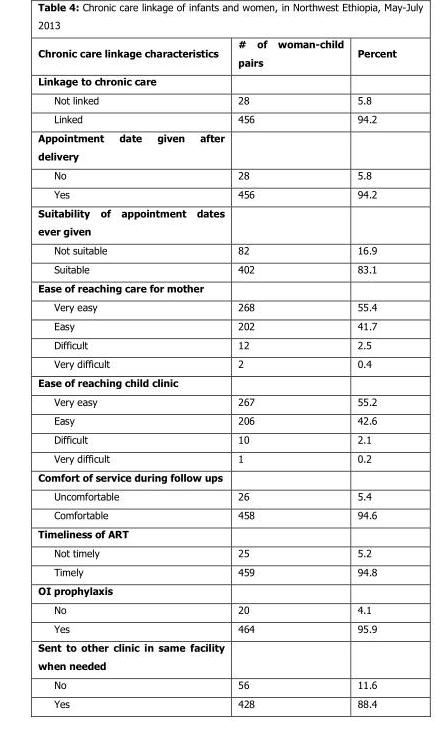table: (37, 37, 395, 709)
table column: (37, 37, 230, 709), (230, 37, 349, 709), (349, 37, 395, 709)
table column header: (37, 37, 395, 71)
table projected row header: (37, 127, 395, 165), (37, 202, 395, 240), (37, 637, 395, 674), (37, 71, 395, 90), (37, 277, 395, 296), (37, 372, 395, 391), (37, 467, 395, 486), (37, 523, 395, 542), (37, 580, 395, 599)
table row: (37, 127, 395, 165), (37, 202, 395, 240), (37, 637, 395, 674), (37, 37, 395, 71), (37, 71, 395, 90), (37, 108, 395, 127), (37, 183, 395, 202), (37, 258, 395, 277), (37, 277, 395, 296), (37, 296, 395, 315), (37, 315, 395, 334), (37, 334, 395, 353), (37, 353, 395, 372), (37, 372, 395, 391), (37, 391, 395, 410), (37, 410, 395, 429), (37, 429, 395, 448), (37, 448, 395, 467), (37, 467, 395, 486), (37, 504, 395, 523), (37, 523, 395, 542), (37, 542, 395, 561), (37, 561, 395, 580), (37, 580, 395, 599), (37, 599, 395, 618), (37, 618, 395, 637), (37, 674, 395, 693), (37, 90, 395, 108), (37, 165, 395, 183), (37, 240, 395, 258), (37, 486, 395, 504), (37, 693, 395, 709)
